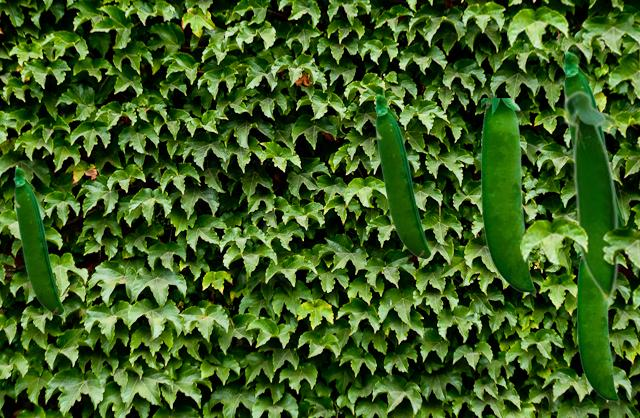pea: (562, 89, 618, 304), (562, 50, 625, 226), (481, 98, 535, 296), (374, 93, 430, 258), (13, 166, 63, 314), (577, 251, 618, 403)
